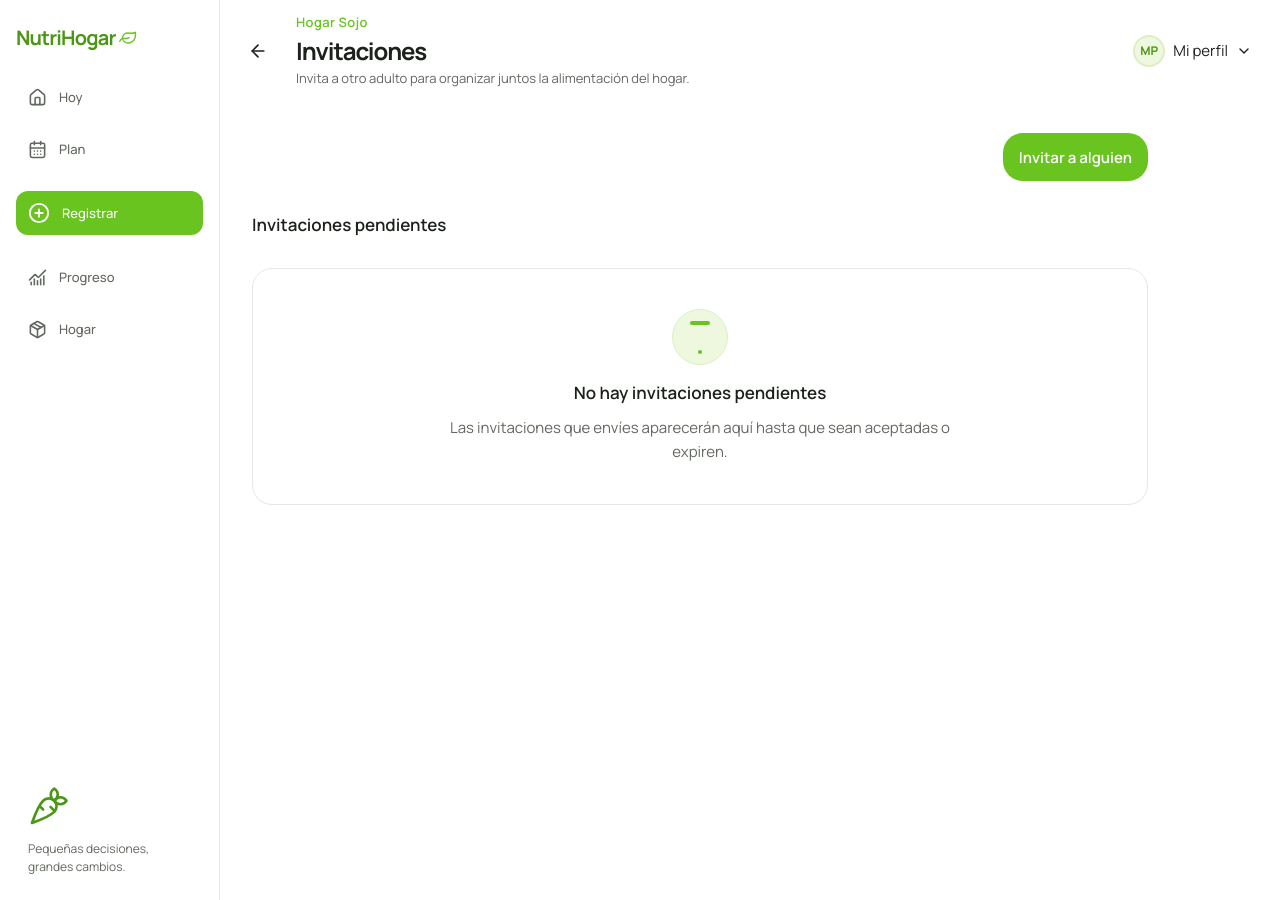
HouseholdInvitationsPage › creates an invitation and displays its shareable link
Click the button "Invitar a alguien". click: [1075, 157]
box: [1003, 133, 1148, 181]
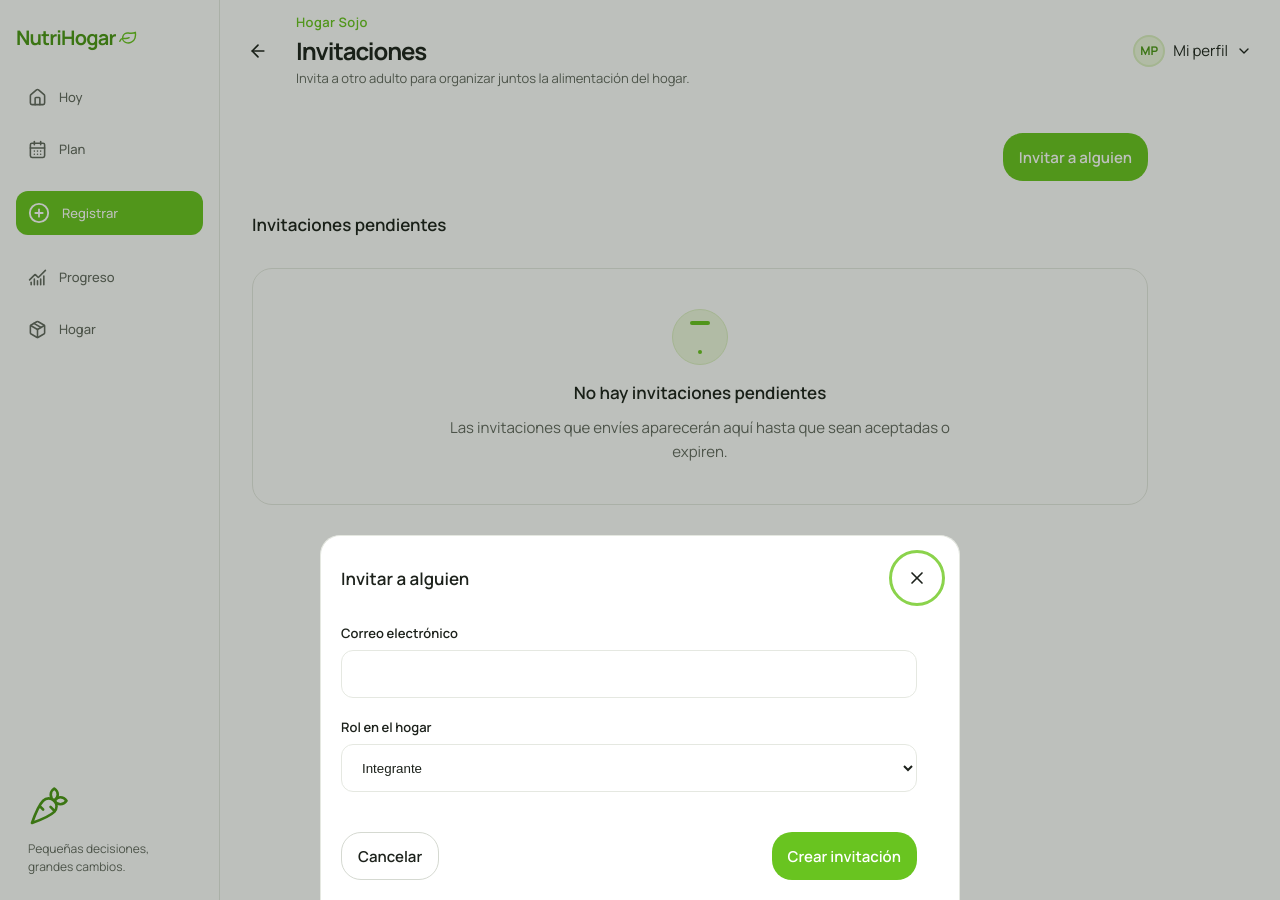
Result: the dialog "Invitar a alguien" is shown at [320, 535, 960, 899]
Type "adult@example.com" into the field labelled "Correo electrónico". click: [629, 674]
box: [341, 650, 917, 698]
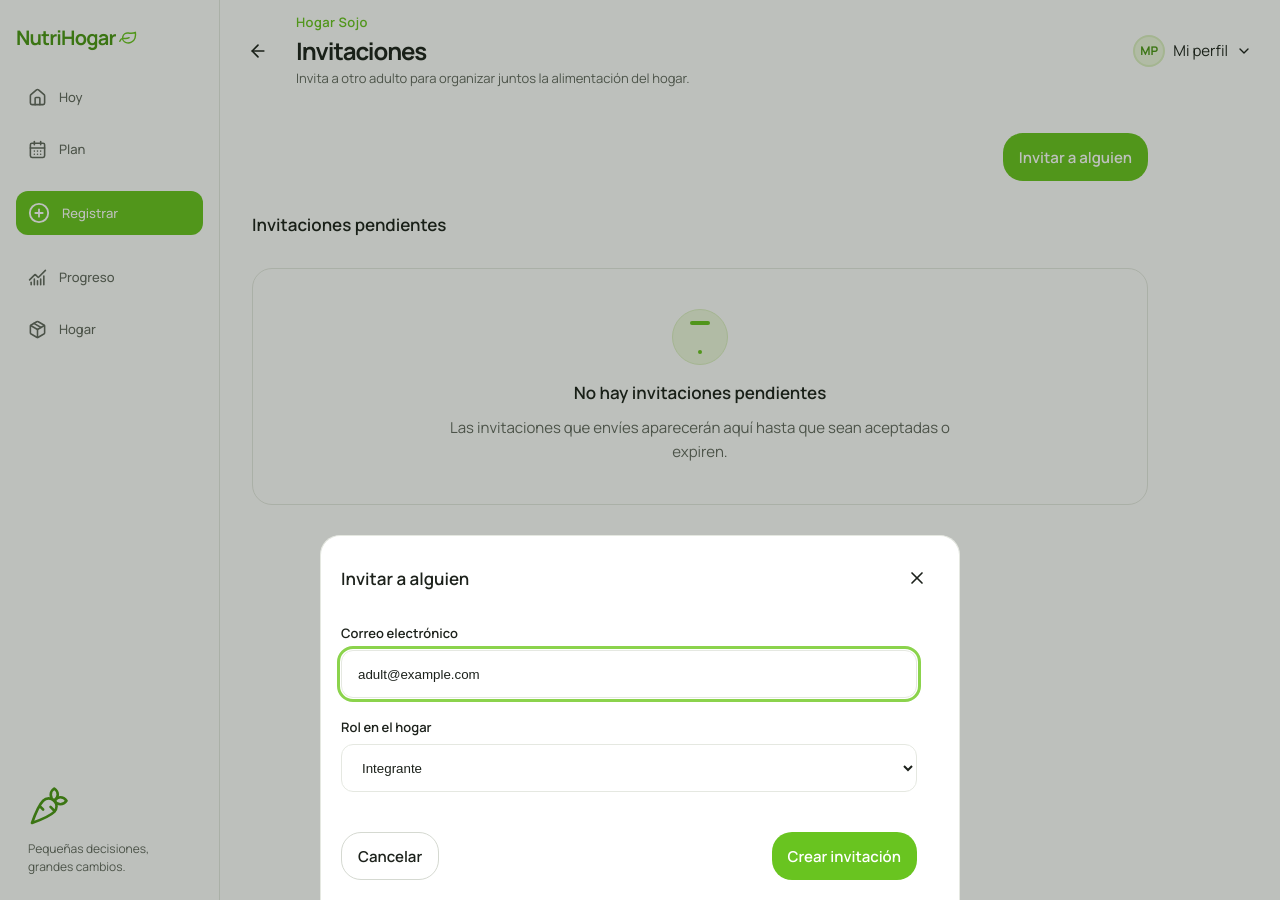
Select "Administrador" in the dropdown labelled "Rol en el hogar". click: [629, 768]
box: [341, 744, 917, 792]
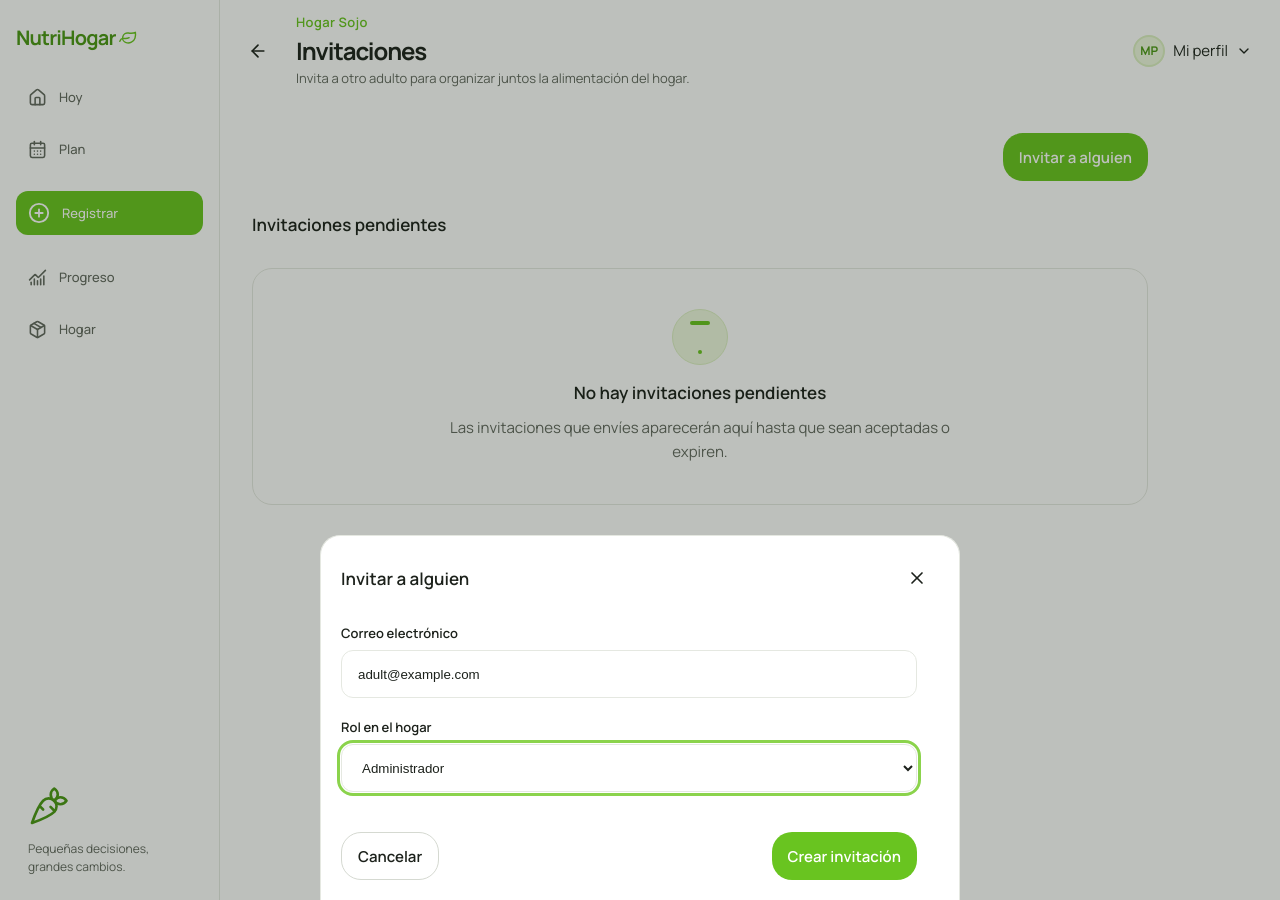
Click the button "Crear invitación". click: [844, 856]
box: [772, 832, 917, 880]
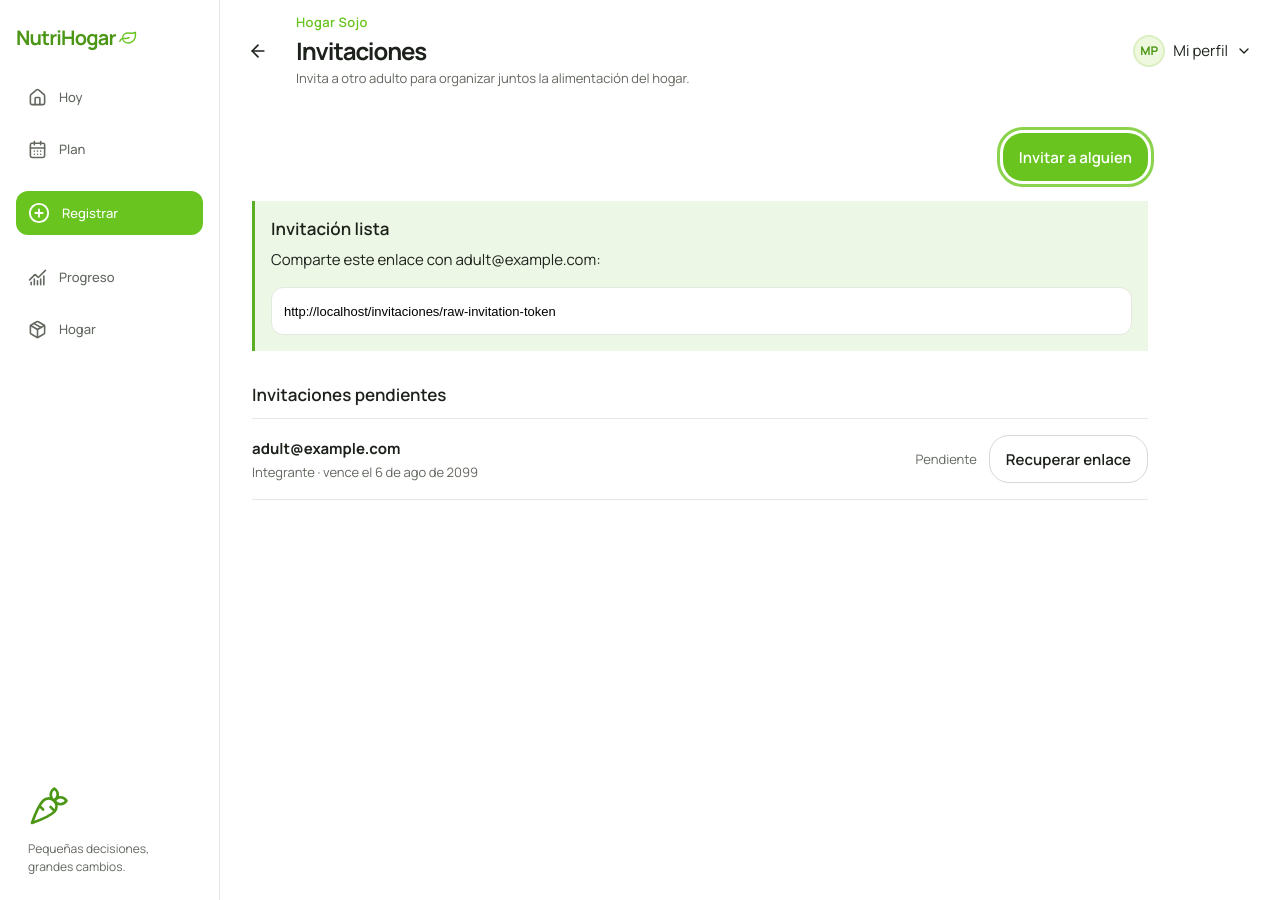
Result: the heading "Invitación lista" is shown at [271, 217, 390, 240]
Click the button "Recuperar enlace". click: [1068, 459]
box: [989, 435, 1148, 483]
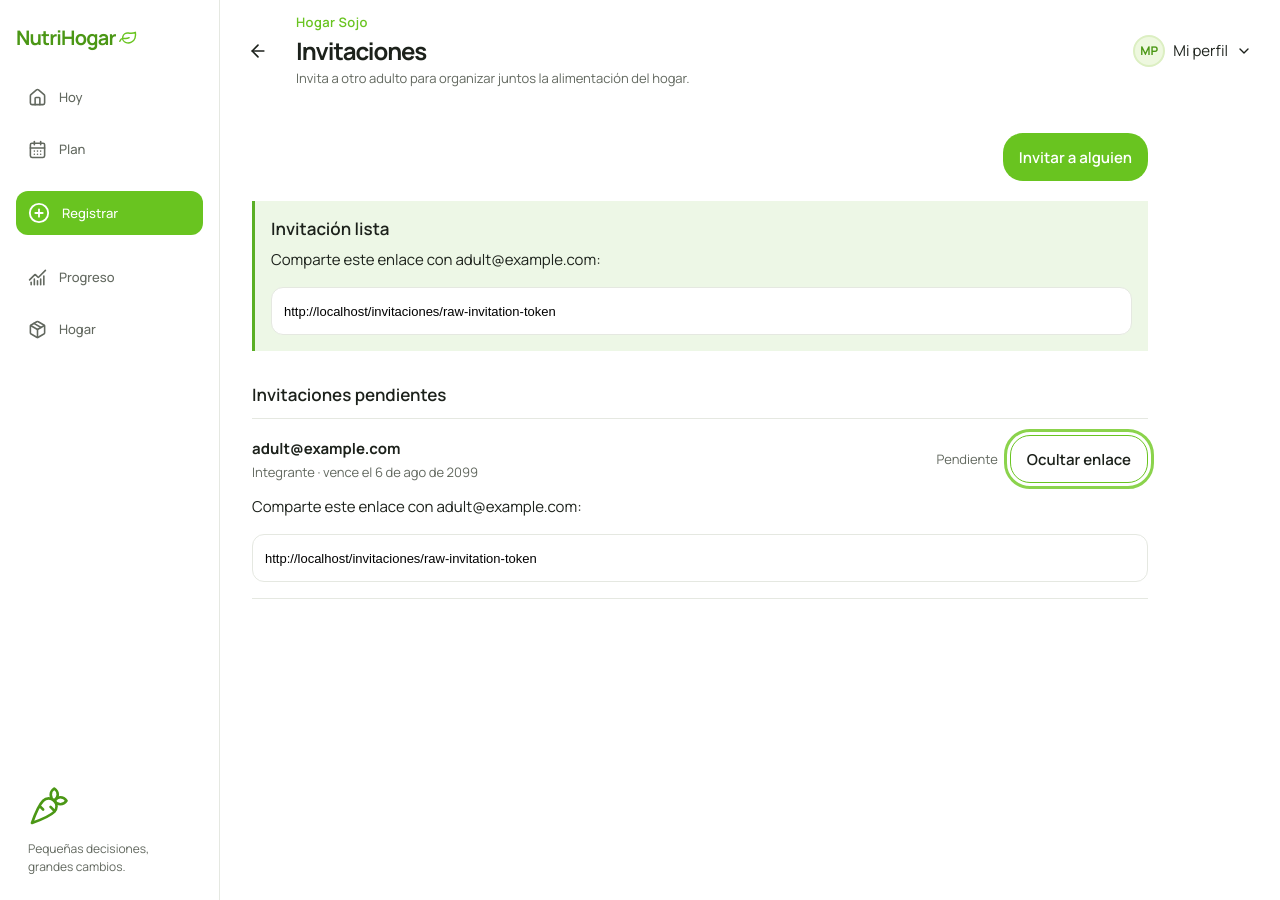
Result: the number of fields named "Enlace de invitación para adult@example.com" is 2 at [271, 287, 1132, 335]; [252, 534, 1148, 582]
